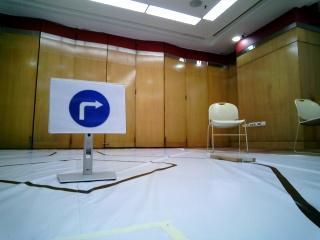right: (54, 82, 121, 133)
